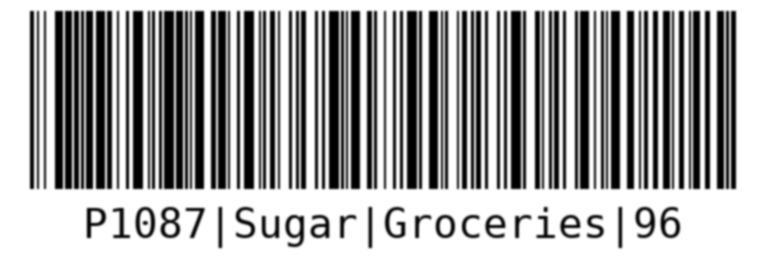milk: (24, 2, 745, 265)
